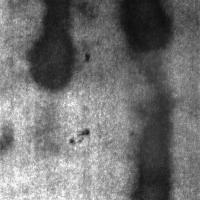patches: (97, 38, 200, 176), (26, 0, 164, 85), (129, 79, 176, 200), (27, 1, 78, 92), (113, 1, 175, 59)
